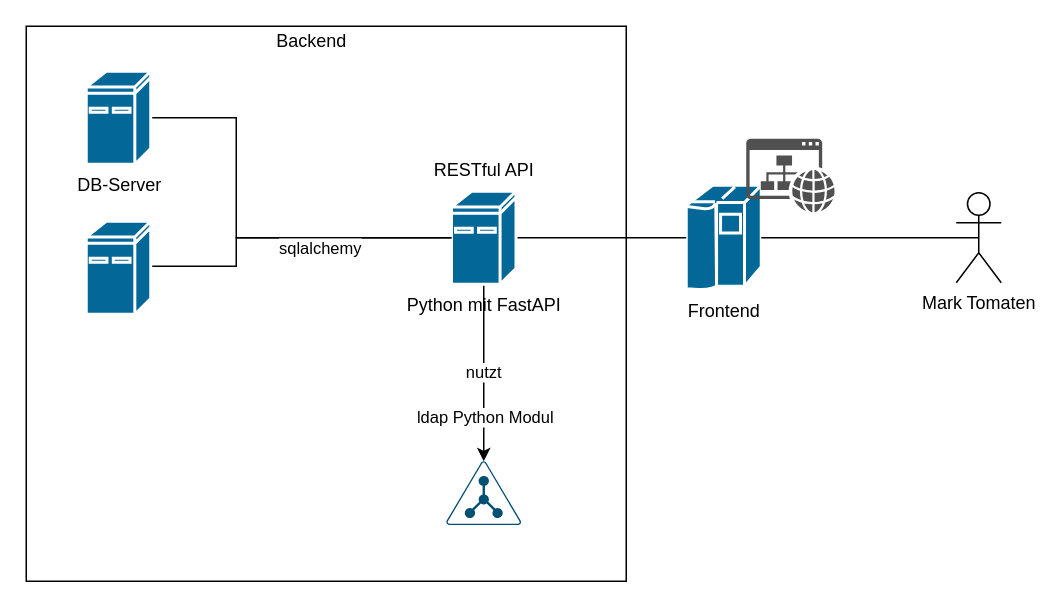
Image size: 1062x608. Some labels were removed from this diagram. The shapes that lost their labels are listed below. From the top down, each one's centre as x and y in pixels, then its label:
At point 118,267: "BLOBs".
At point 483,492: "LDAP".
